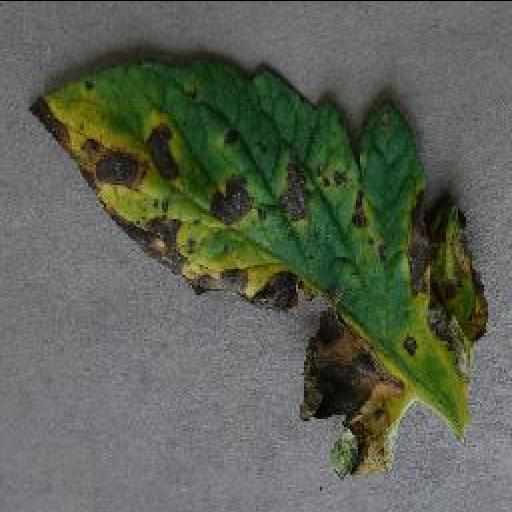disease_tomato: (30, 56, 488, 476)
